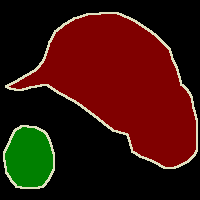hat: (6, 13, 197, 168), (4, 126, 54, 188)
